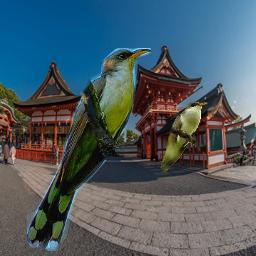Cuckoo: (27, 48, 151, 251), (160, 101, 208, 172)
